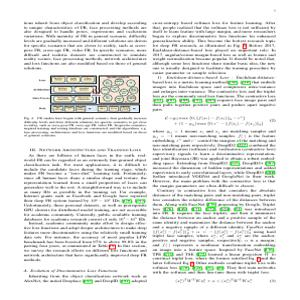diagram: (27, 72, 146, 115)
text: (151, 19, 279, 289), (21, 117, 150, 287), (21, 19, 149, 70)
